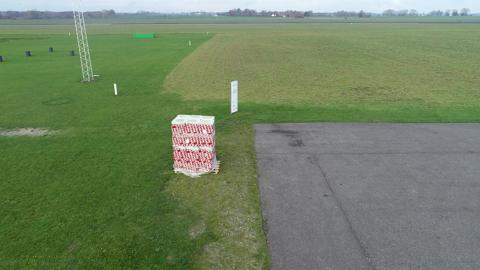RockwoolPallet: (171, 113, 218, 174)
